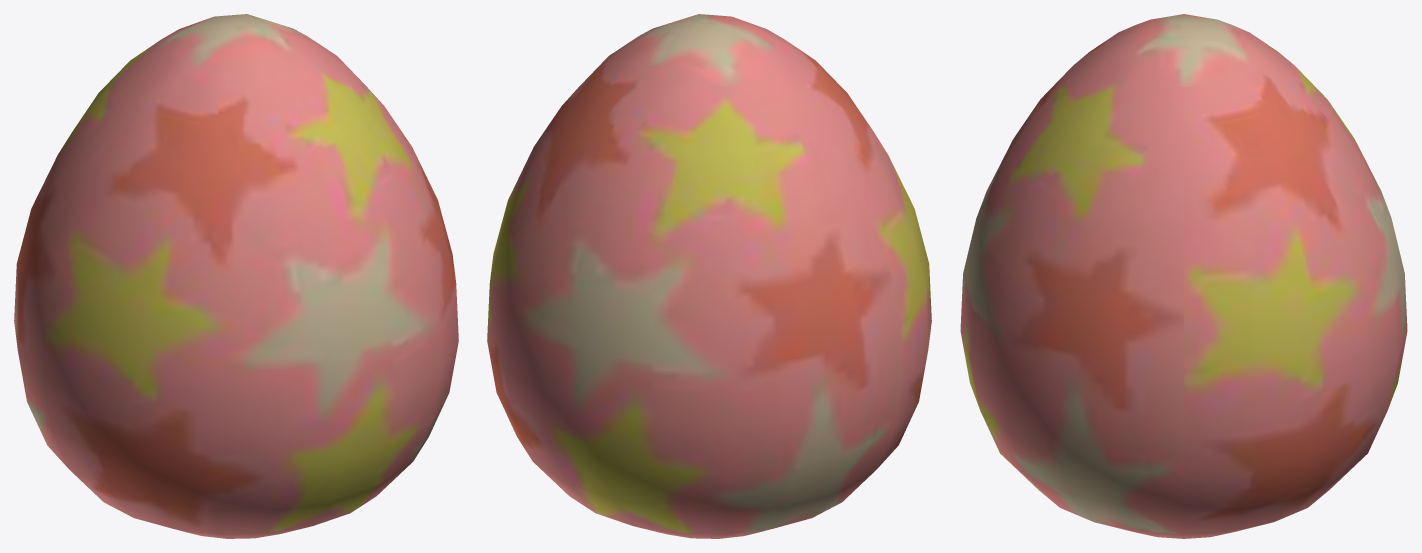
The model's file is earth-egg.glb.
3 renders of one model, left to right at view 1: azimuth 30°, elevation 25°; view 2: azimuth 150°, elevation 25°; view 3: azimuth 270°, elevation 25°, orthographic.
Bounding box in the file's own units: 2.98 × 3.61 × 2.98.
Materials: 1 (1 with a texture image).
